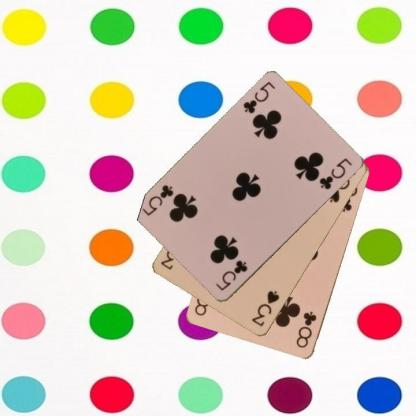3s: (249, 288, 281, 328)
5c: (240, 79, 277, 116), (212, 258, 249, 292)
8c: (294, 308, 318, 350)
